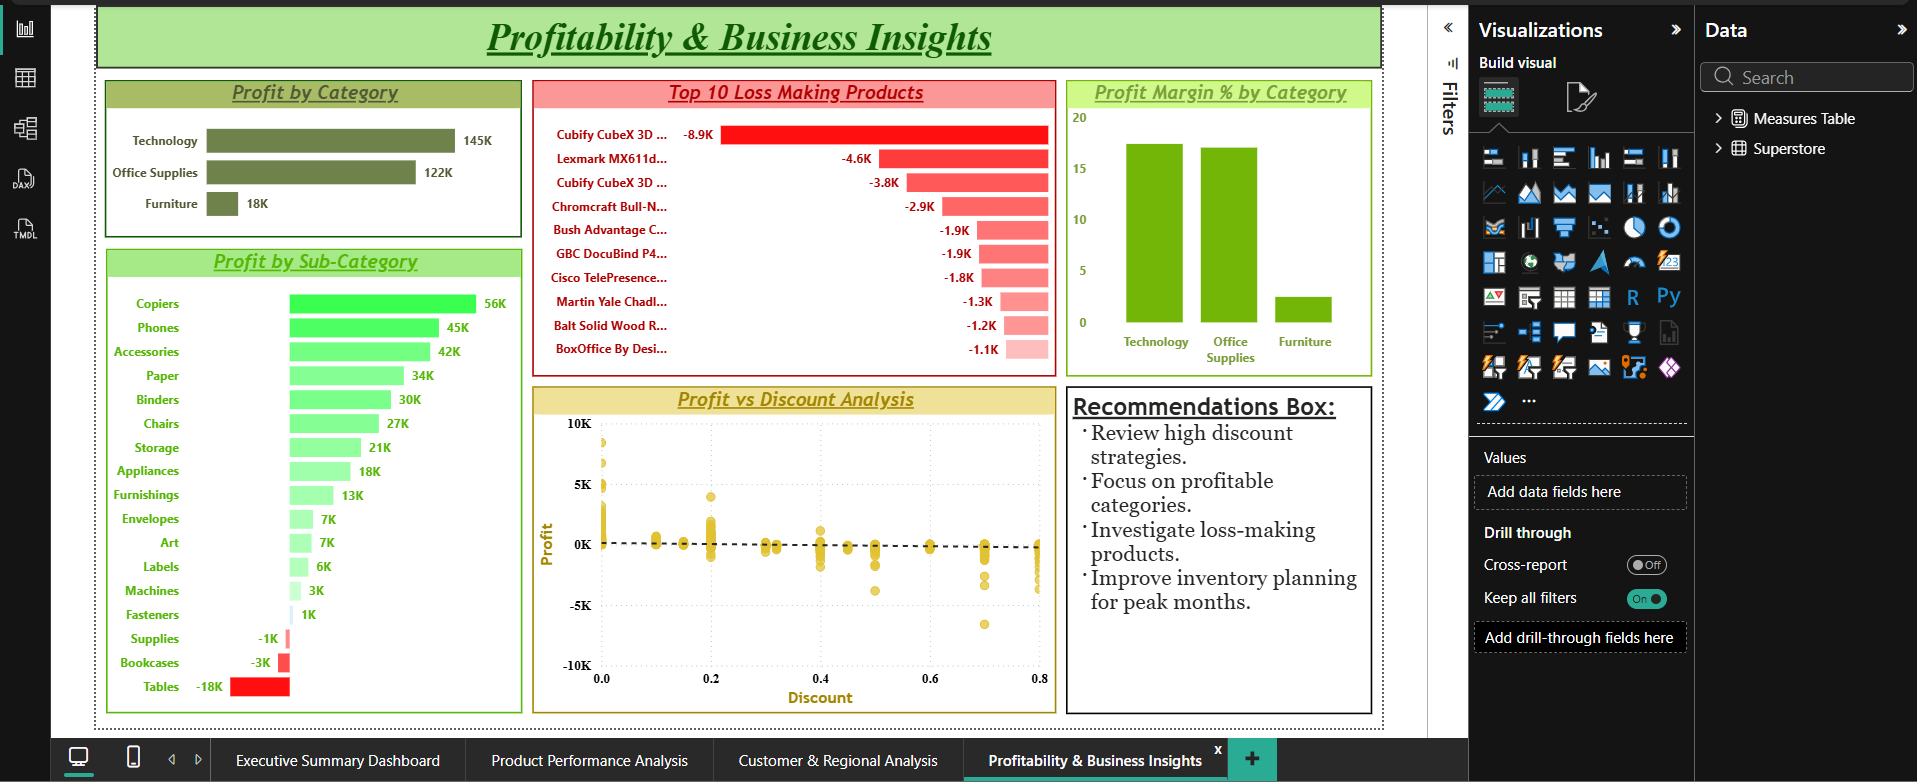

Layout of this report page (visuals, bound fields, positions):
{"tool":"powerbi","page":{"name":"Profitability & Business Insights","canvas":[1280,720],"ordinal":3},"visuals":[{"type":"shape","box":[0,0,1280,63.4],"z":0},{"type":"clusteredBarChart","title":"Profit by Category","fields":{"Category":["Superstore.Category"],"Y":["Sum(Superstore.Profit)"]},"box":[8.7,74.6,415.5,156.7],"z":1000},{"type":"clusteredBarChart","title":"Profit by Sub-Category","fields":{"Category":["Superstore.Sub-Category"],"Y":["Sum(Superstore.Profit)"]},"box":[10,242.6,414.2,462.8],"z":2000},{"type":"clusteredBarChart","title":"Top 10 Loss Making Products","fields":{"Category":["Superstore.Product Name"],"Y":["Sum(Superstore.Profit)"]},"box":[434.1,74.6,521.2,294.8],"z":3000},{"type":"scatterChart","title":"Profit vs Discount Analysis","fields":{"X":["Superstore.Discount"],"Y":["Superstore.Profit"]},"box":[434.1,379.4,521.2,325.9],"z":4000},{"type":"clusteredColumnChart","title":"Profit Margin % by Category","fields":{"Y":["Measures Table.Profit Margin %"],"Category":["Superstore.Category"]},"box":[965.3,74.6,304.8,294.8],"z":4001},{"type":"textbox","box":[965,379,305,326],"z":4002}]}

Visuals, with their boxes on the page's 1280x720 design canvas (x1, y1, x2, y2). These are canvas units, not pixel positions in the 1917x782 screenshot, which may show the page scaled, cropped or inside an application window:
shape: {"left": 0, "top": 0, "right": 1280, "bottom": 63}
"Profit by Category" clusteredBarChart: {"left": 9, "top": 75, "right": 424, "bottom": 231}
"Profit by Sub-Category" clusteredBarChart: {"left": 10, "top": 243, "right": 424, "bottom": 705}
"Top 10 Loss Making Products" clusteredBarChart: {"left": 434, "top": 75, "right": 955, "bottom": 369}
"Profit vs Discount Analysis" scatterChart: {"left": 434, "top": 379, "right": 955, "bottom": 705}
"Profit Margin % by Category" clusteredColumnChart: {"left": 965, "top": 75, "right": 1270, "bottom": 369}
textbox: {"left": 965, "top": 379, "right": 1270, "bottom": 705}
